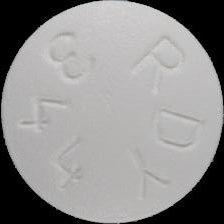68645-282: (0, 0, 224, 224)
